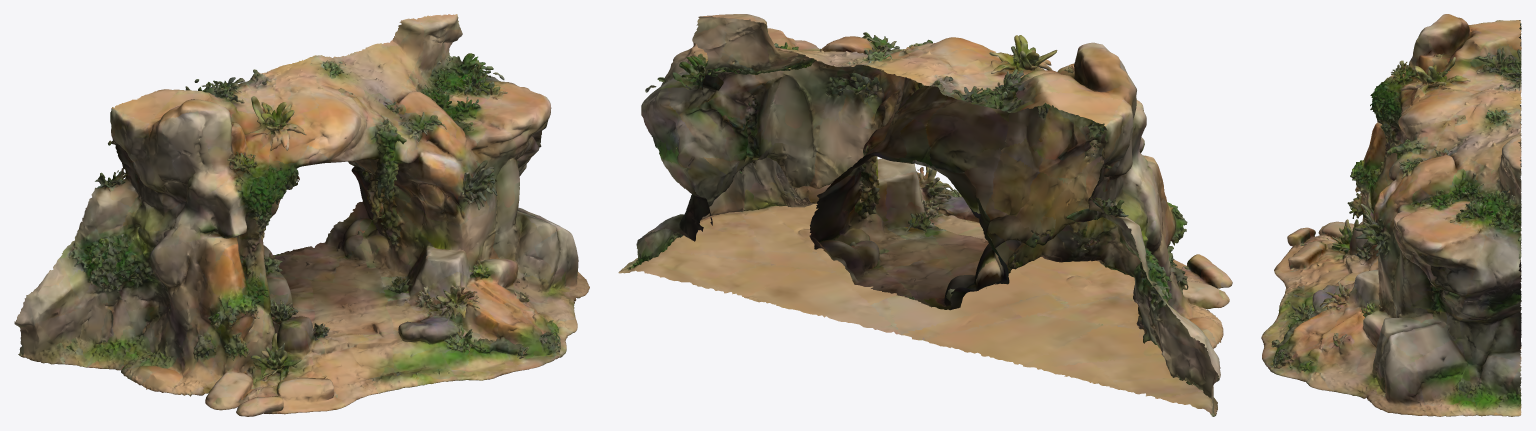
Rendered from cavemouth1.glb.
The picture shows the model from 3 angles, left to right: view 1: azimuth 30°, elevation 25°; view 2: azimuth 150°, elevation 25°; view 3: azimuth 270°, elevation 25°; orthographic projection. The views are drawn at different scales.
Visible parts, largest first — view 1: Mesh_0; view 2: Mesh_0; view 3: Mesh_0.
Part boxes in pixels (<box>): Mesh_0: <box>14,14,589,416</box>; Mesh_0: <box>618,14,1232,416</box>; Mesh_0: <box>1261,14,1521,416</box>.
Size of the model in its own units: 1.86 by 0.8663 by 0.8855.
Materials: 1 (1 with a texture image).
